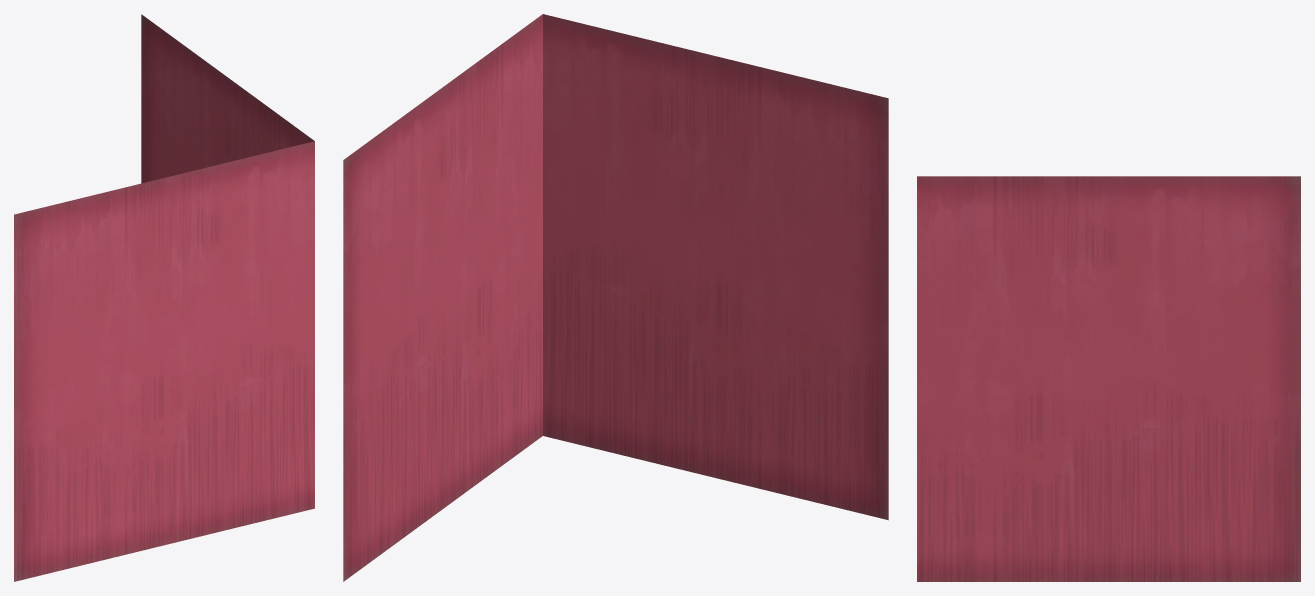
Rendered from pm-temple-wall-corner.glb.
3 renders of one model, left to right at view 1: azimuth 30°, elevation 25°; view 2: azimuth 150°, elevation 25°; view 3: azimuth 270°, elevation 25°, orthographic. The views are drawn at different scales.
Parts seen in each view (by area): view 1: TempleWallCorner_Art; view 2: TempleWallCorner_Art; view 3: TempleWallCorner_Art.
Boxes of the visible parts, left/top/right/bottom form: TempleWallCorner_Art: left=14, top=14, right=314, bottom=581; TempleWallCorner_Art: left=343, top=14, right=888, bottom=581; TempleWallCorner_Art: left=917, top=176, right=1300, bottom=581.
Bounding box in the file's own units: 6 × 7 × 6.
1 material, 1 textured.
